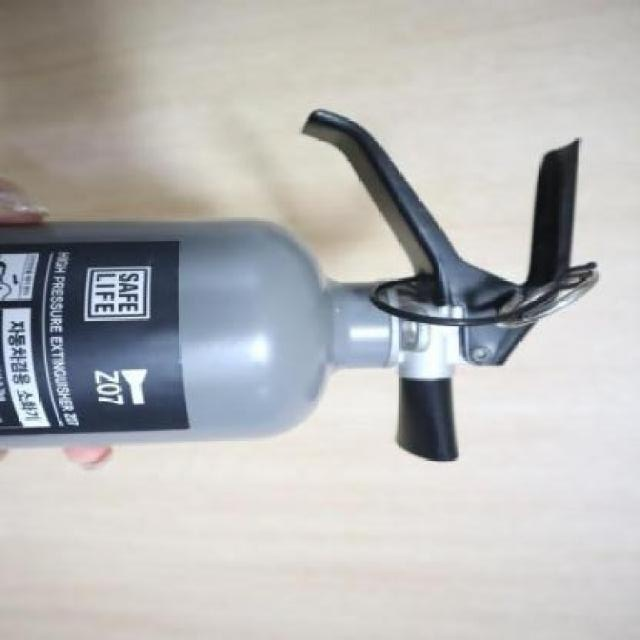fire extinguisher: (0, 109, 583, 463)
